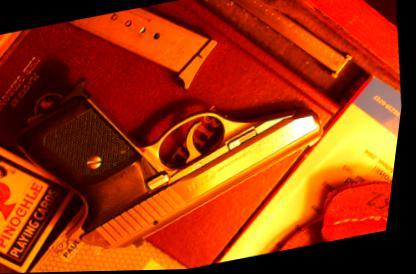pistol: (1, 37, 354, 270)
